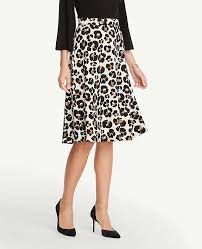C_skirt: (57, 13, 151, 145)
